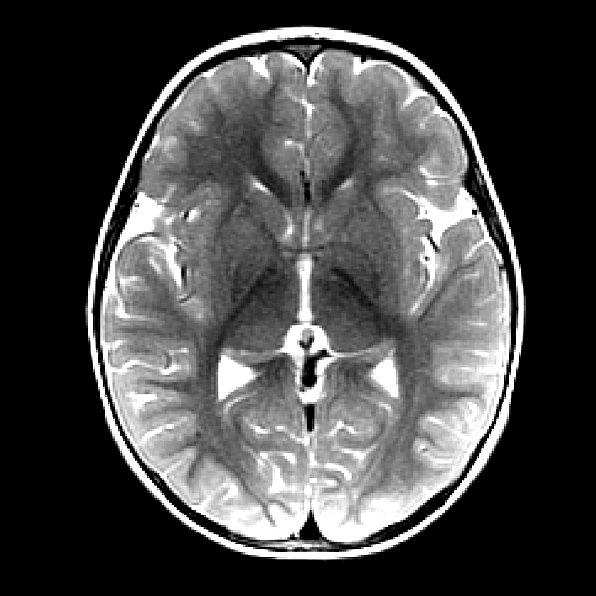Normal_Brain: (28, 1, 586, 596)
